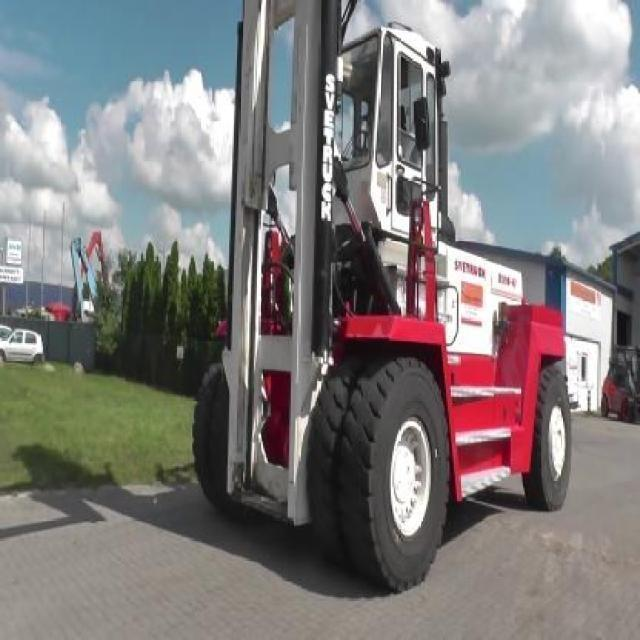car: (1, 329, 45, 364)
forklift: (188, 2, 579, 597)
road sign: (6, 240, 22, 267), (0, 266, 23, 284)
